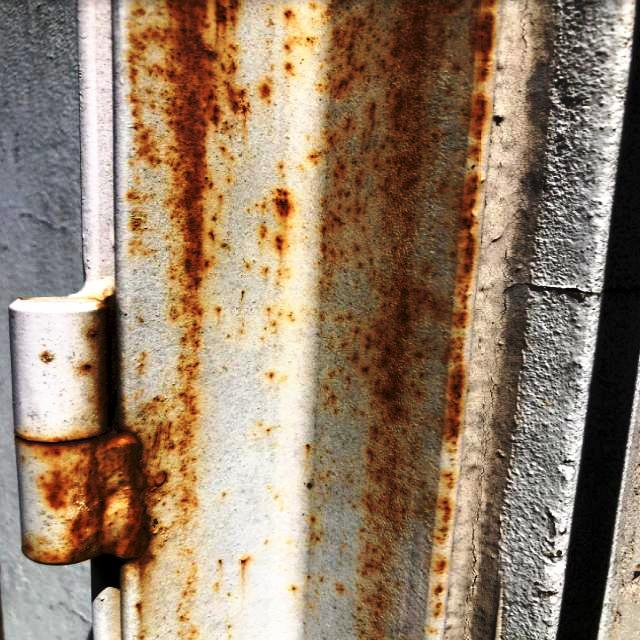Corrosion: (241, 0, 503, 640), (119, 0, 254, 640), (11, 423, 164, 566), (37, 291, 113, 432), (239, 555, 253, 570)
